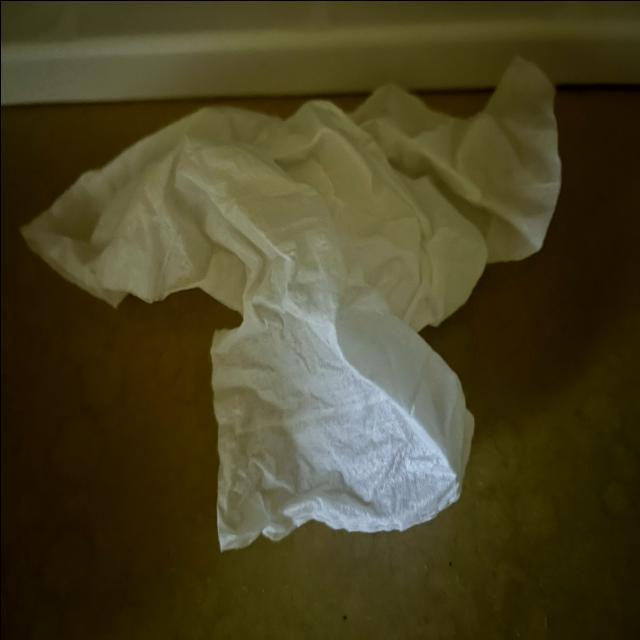Paper: (33, 86, 589, 532)
